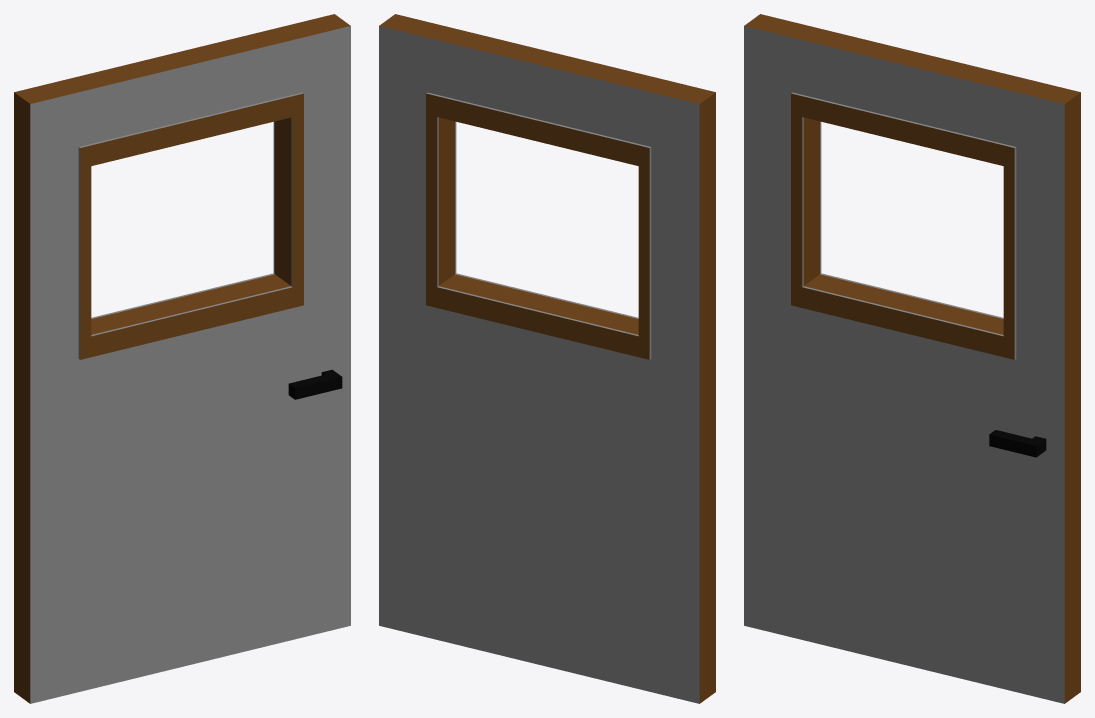
Rendered from Puerta.fbx.
The picture shows the model from 3 angles, left to right: view 1: azimuth 30°, elevation 25°; view 2: azimuth 150°, elevation 25°; view 3: azimuth 330°, elevation 25°; orthographic projection.
Parts seen in each view (by area): view 1: Cube.001, Cube.002; view 2: Cube.001; view 3: Cube.001, Cube.002.
Boxes of the visible parts, left/top/right/bottom form: Cube.001: left=14, top=14, right=350, bottom=703; Cube.002: left=288, top=369, right=342, bottom=399; Cube.001: left=379, top=14, right=715, bottom=703; Cube.001: left=744, top=14, right=1080, bottom=703; Cube.002: left=989, top=430, right=1046, bottom=457.
Bounding box in the file's own units: 150 × 269 × 22.3.
